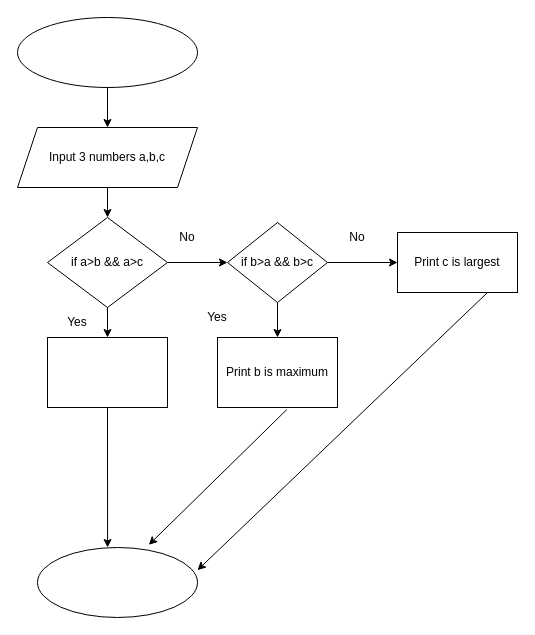
Image size: 535x635. Some labels were removed from this diagram. Each missing label, with the centre of its shape:
End: point 117,582
Print a is largest: point 107,372
Start: point 107,52
